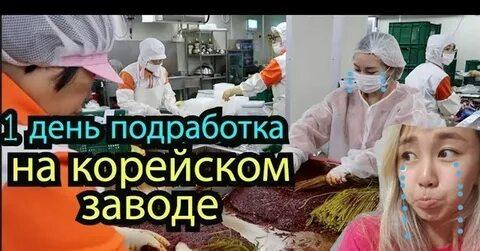hairnet: (0, 12, 128, 64), (346, 27, 411, 79), (421, 29, 466, 73), (139, 26, 167, 80), (266, 19, 295, 62)
mask: (346, 66, 387, 96), (436, 49, 467, 72), (141, 56, 164, 78), (265, 43, 290, 56)
